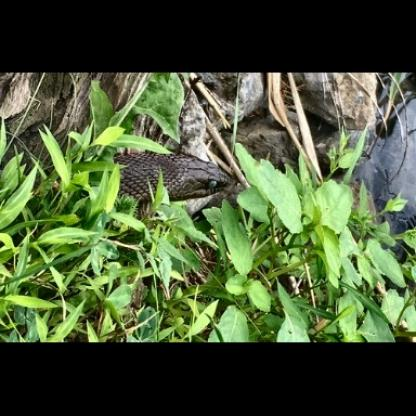Snake: (58, 101, 236, 245)
